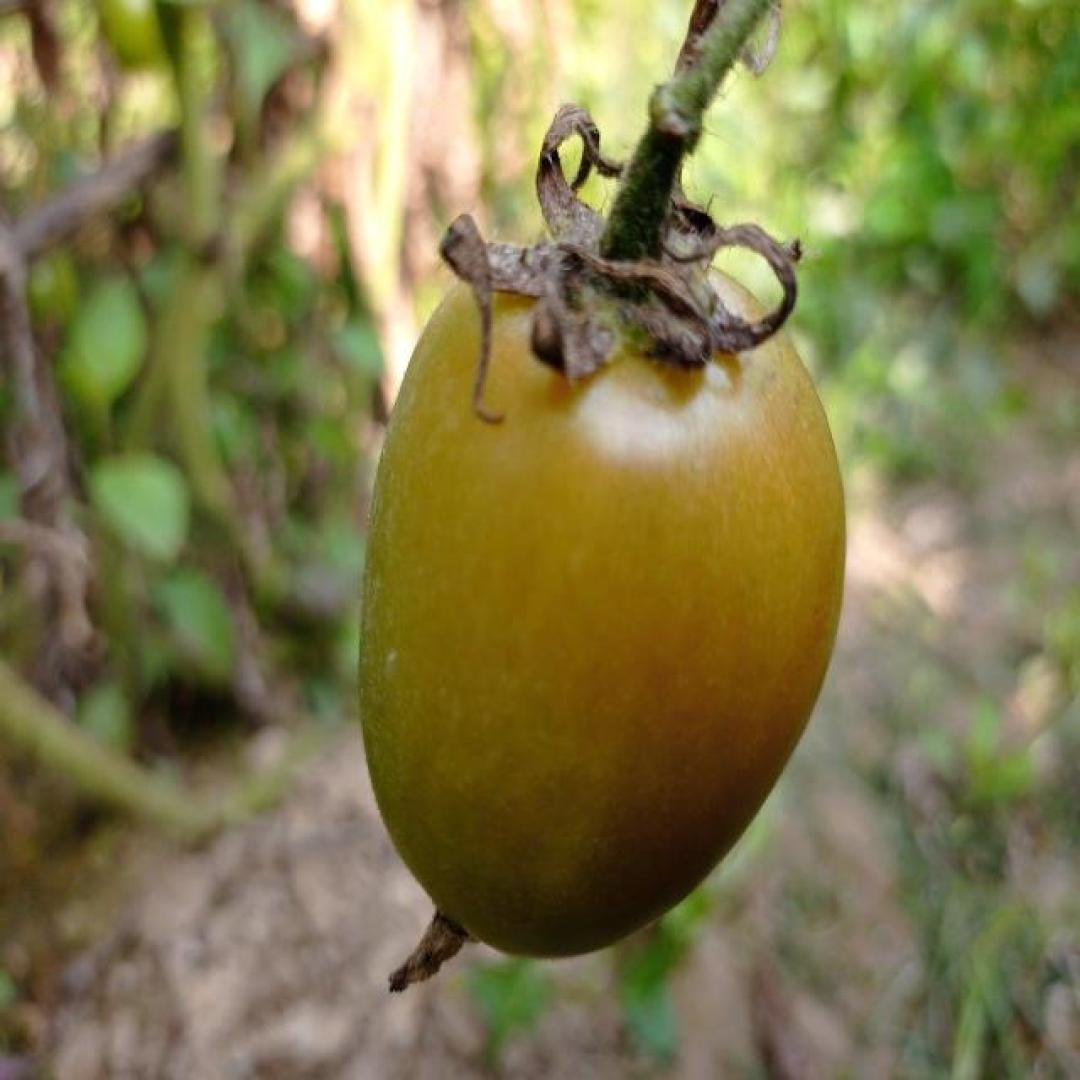setengah_matang: (356, 216, 849, 960)
